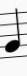G: (3, 7, 22, 64)
